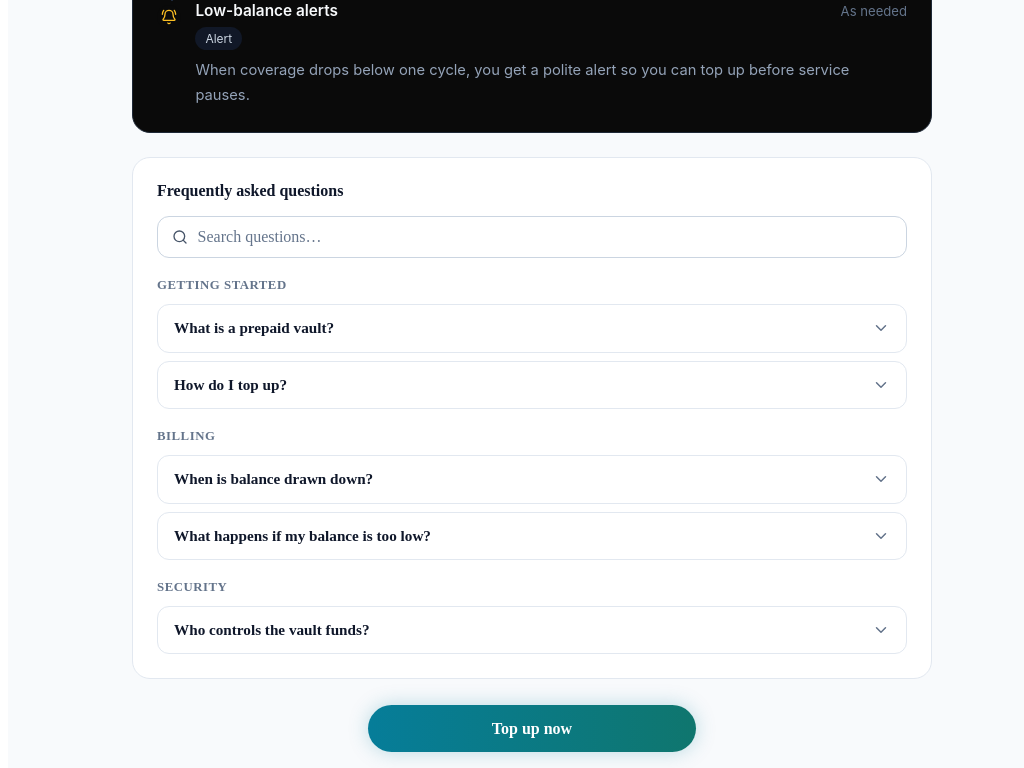
Test: AboutPrepaidBalances › toggles FAQ closed on second click
(page scrolled)
Click the button "How do I top up?". click: {"x": 231, "y": 384}
box: [158,362,906,408]
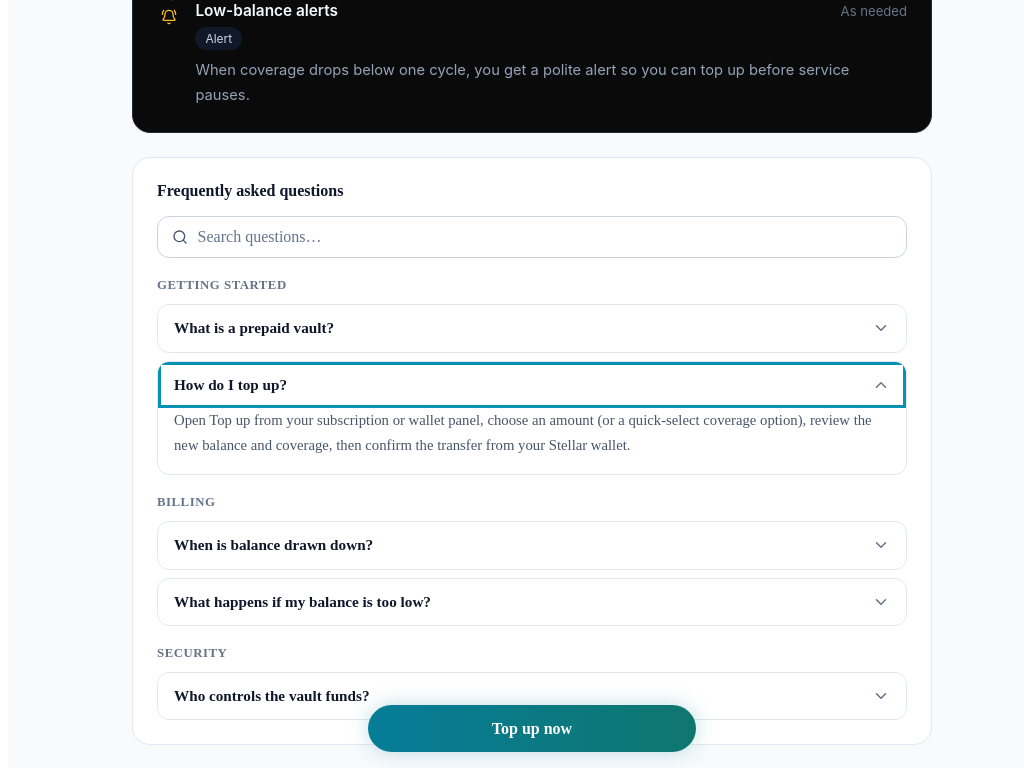
Now the button "How do I top up?" is expanded
Click the button "How do I top up?". click: {"x": 231, "y": 384}
box: [158,362,906,408]
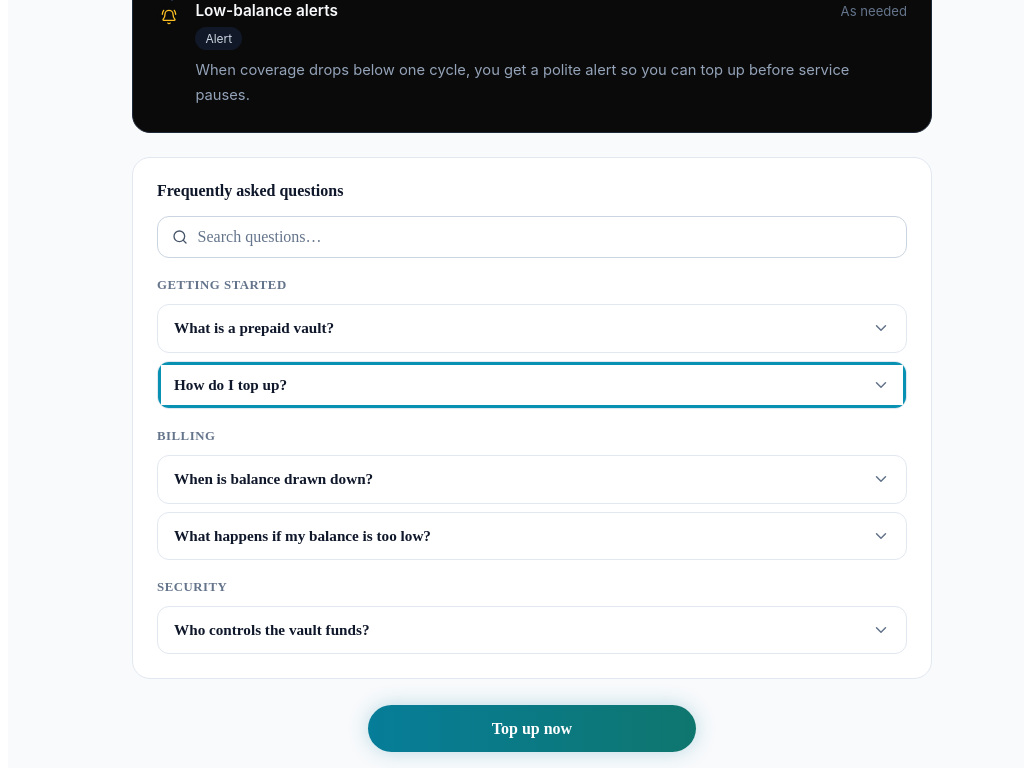
Now the button "How do I top up?" is collapsed, box [158,362,906,408]
